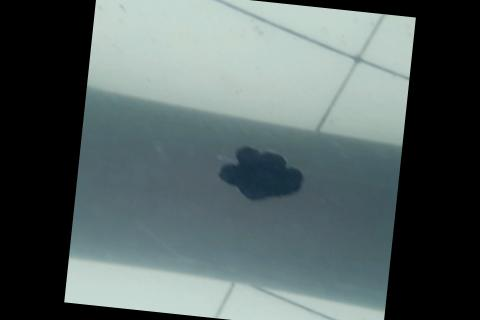kebocoran: (213, 140, 309, 208)
